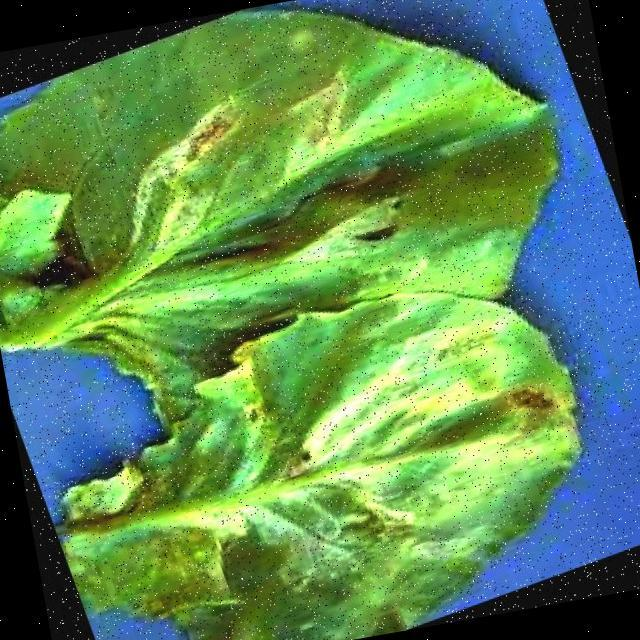Downy_Mildew: (67, 32, 461, 363), (151, 307, 567, 619)
